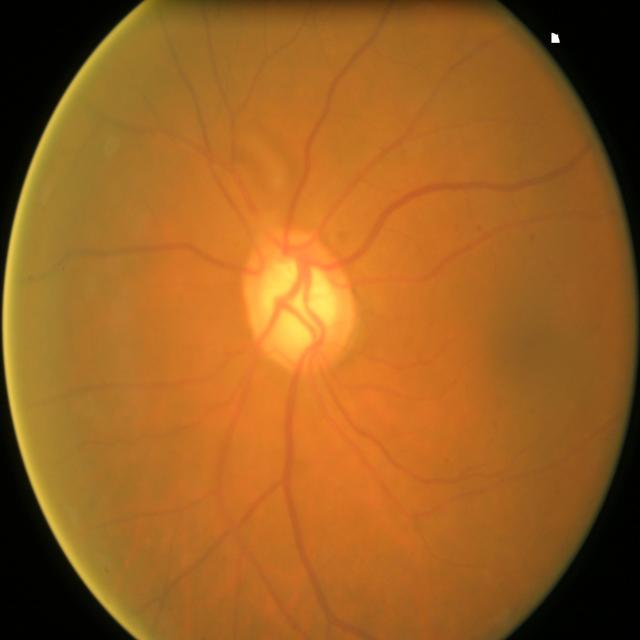OC: (262, 258, 338, 351)
OD: (241, 229, 355, 369)
